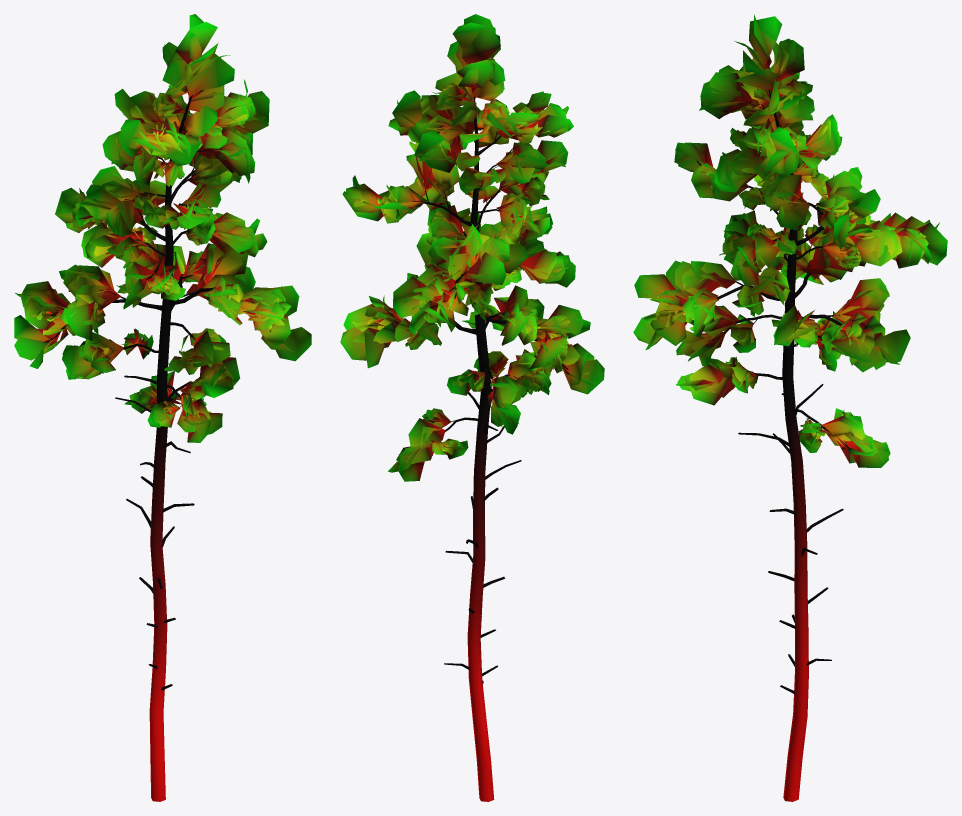
The model's file is Pine_5_LOD_1.fbx.
3 views of the same model, side by side, from view 1: azimuth 30°, elevation 25°; view 2: azimuth 150°, elevation 25°; view 3: azimuth 270°, elevation 25° (orthographic). The views are drawn at different scales.
Visible parts, largest first — view 1: Pine_5_LOD_1; view 2: Pine_5_LOD_1; view 3: Pine_5_LOD_1.
Boxes of the visible parts, x1,y1,x2,y2 form: Pine_5_LOD_1: (14,14,311,801); Pine_5_LOD_1: (340,14,604,801); Pine_5_LOD_1: (633,14,947,801).
Size of the model in its own units: 10.07 by 30.98 by 11.12.
